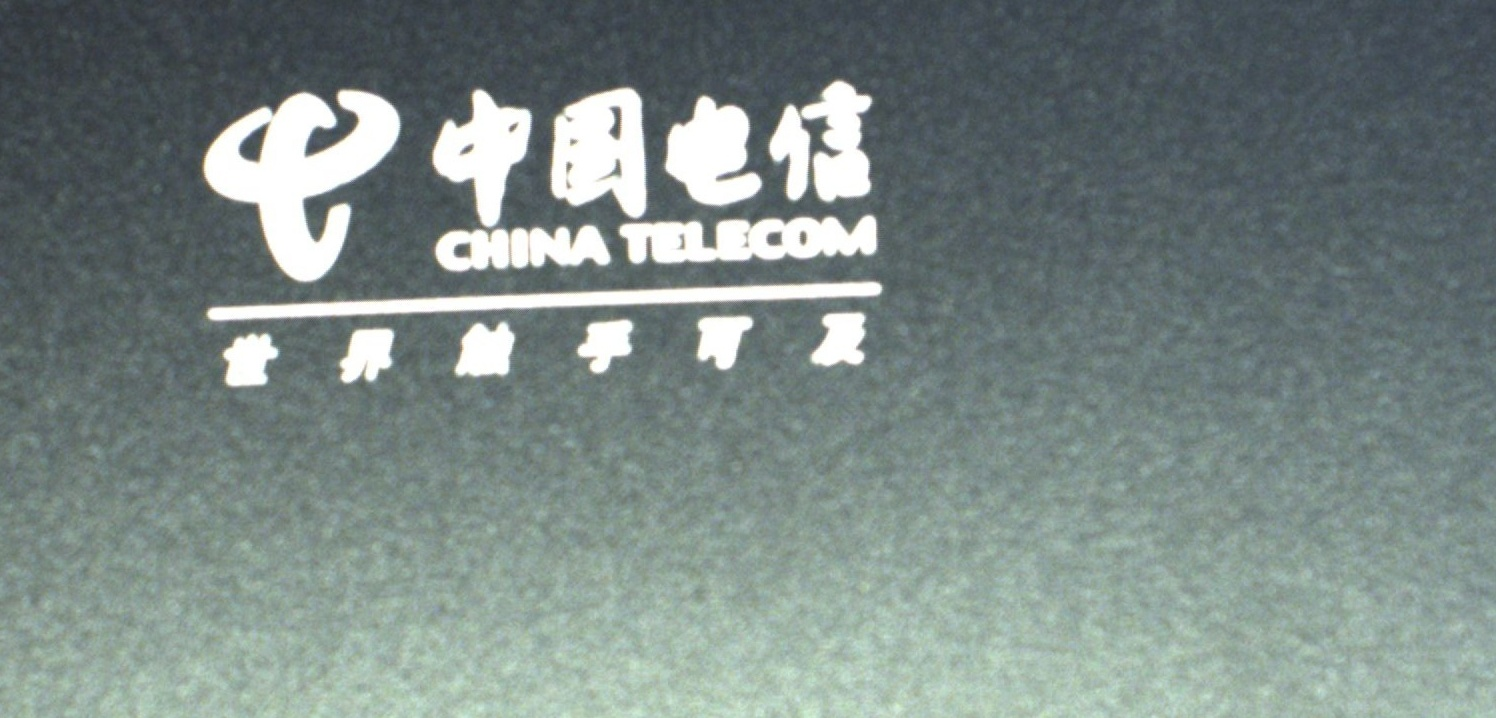AB_ChinaTelecom: (191, 80, 908, 393)
